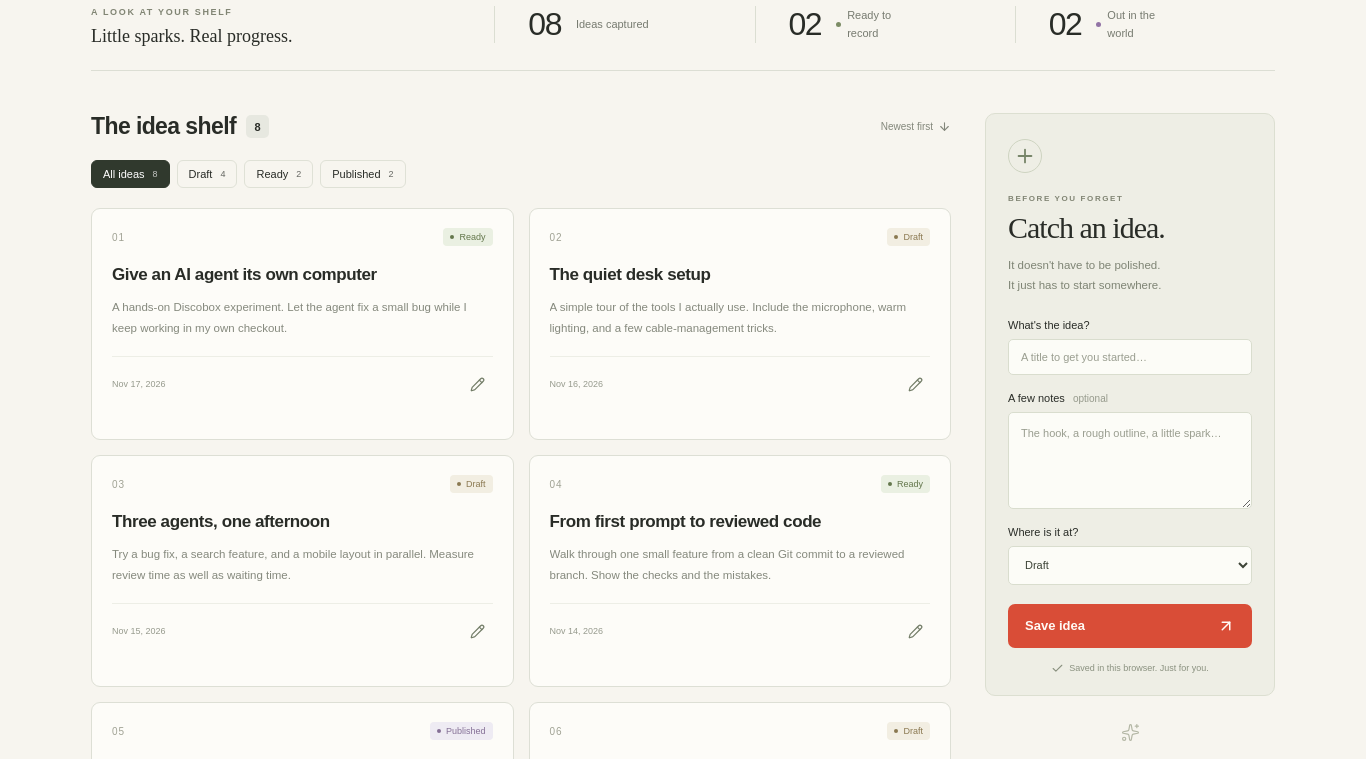
ClipShelf core workflows › edits an idea and its status
(page scrolled)
Click the button named "Edit The quiet desk setup".
click(915, 384)  # box [900,369,930,399]
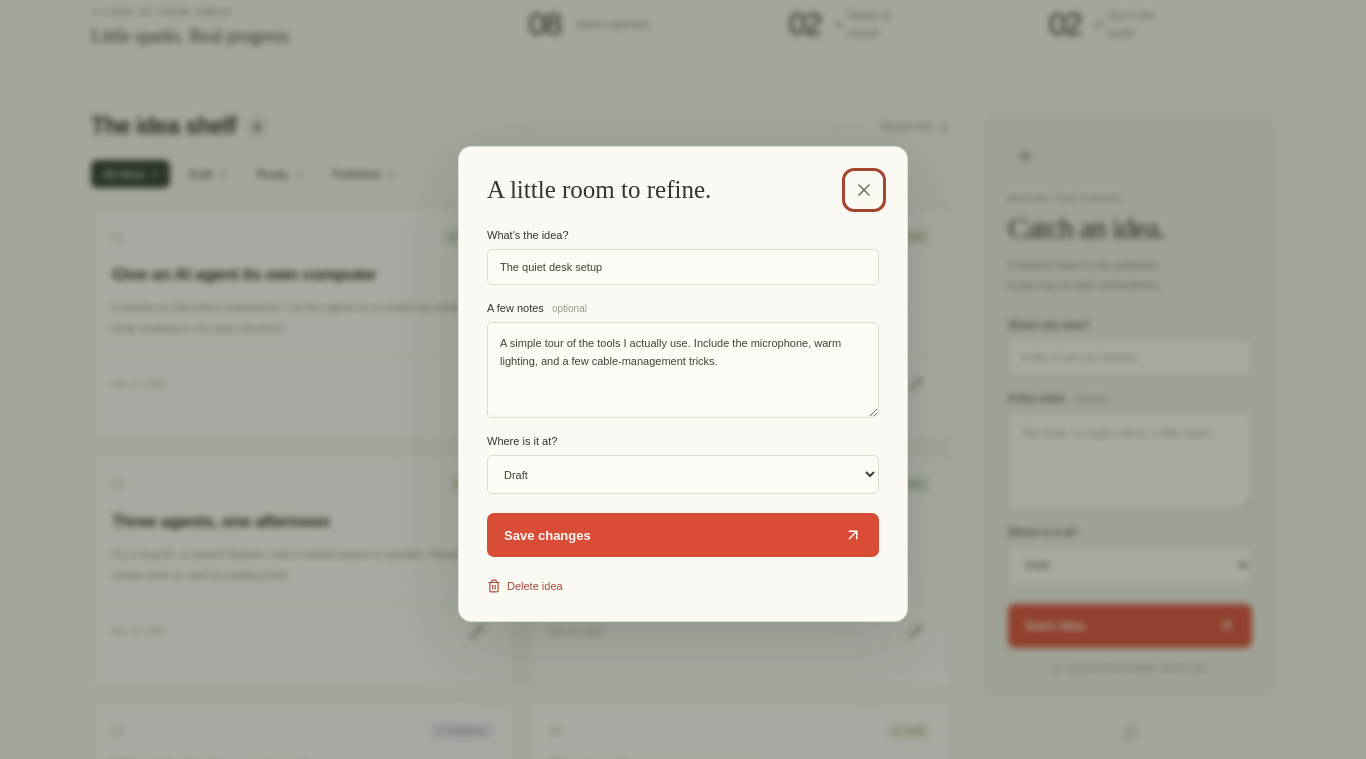
Replace the text in the field labelled "What's the idea?" with "My desk, simplified" at (683, 267), box [487,249,879,285]
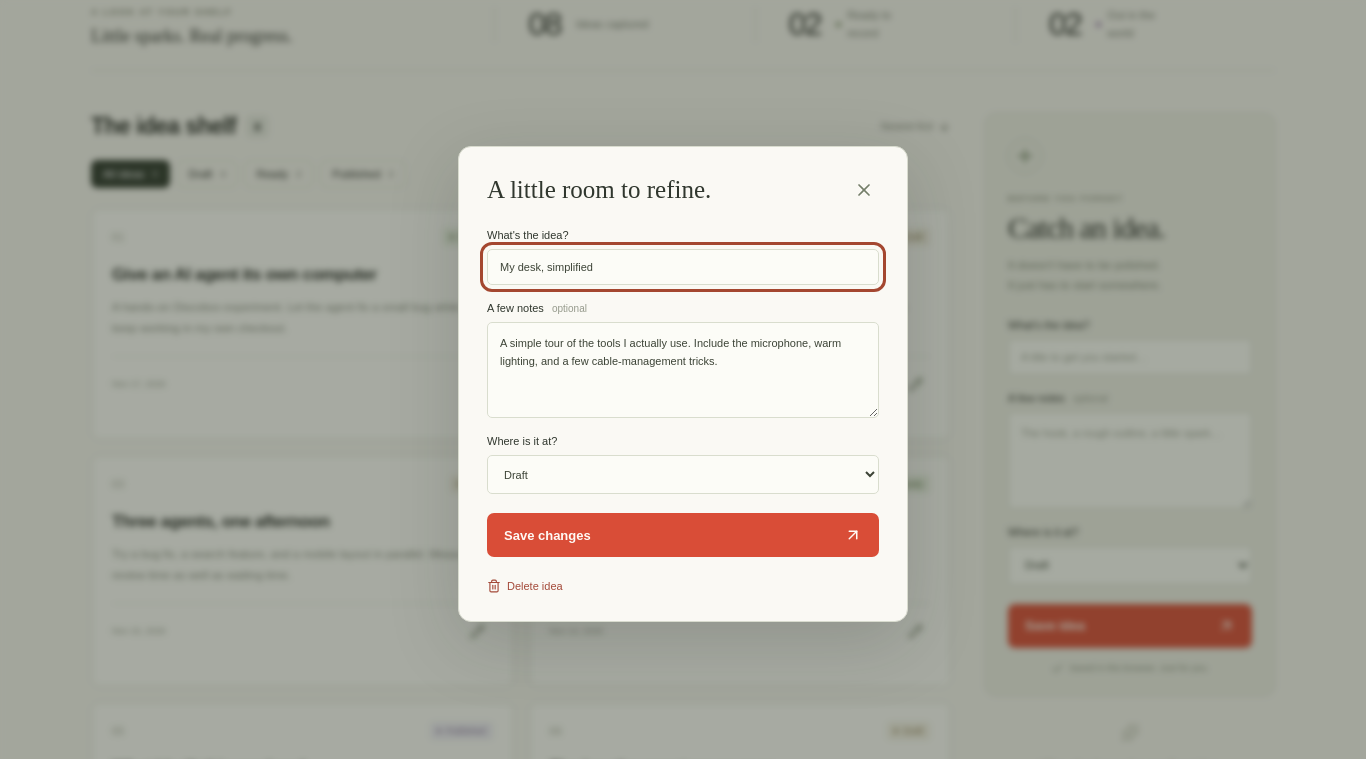
Select "Ready" in the dropdown labelled "Where is it at?" at (683, 475), box [487,455,879,494]
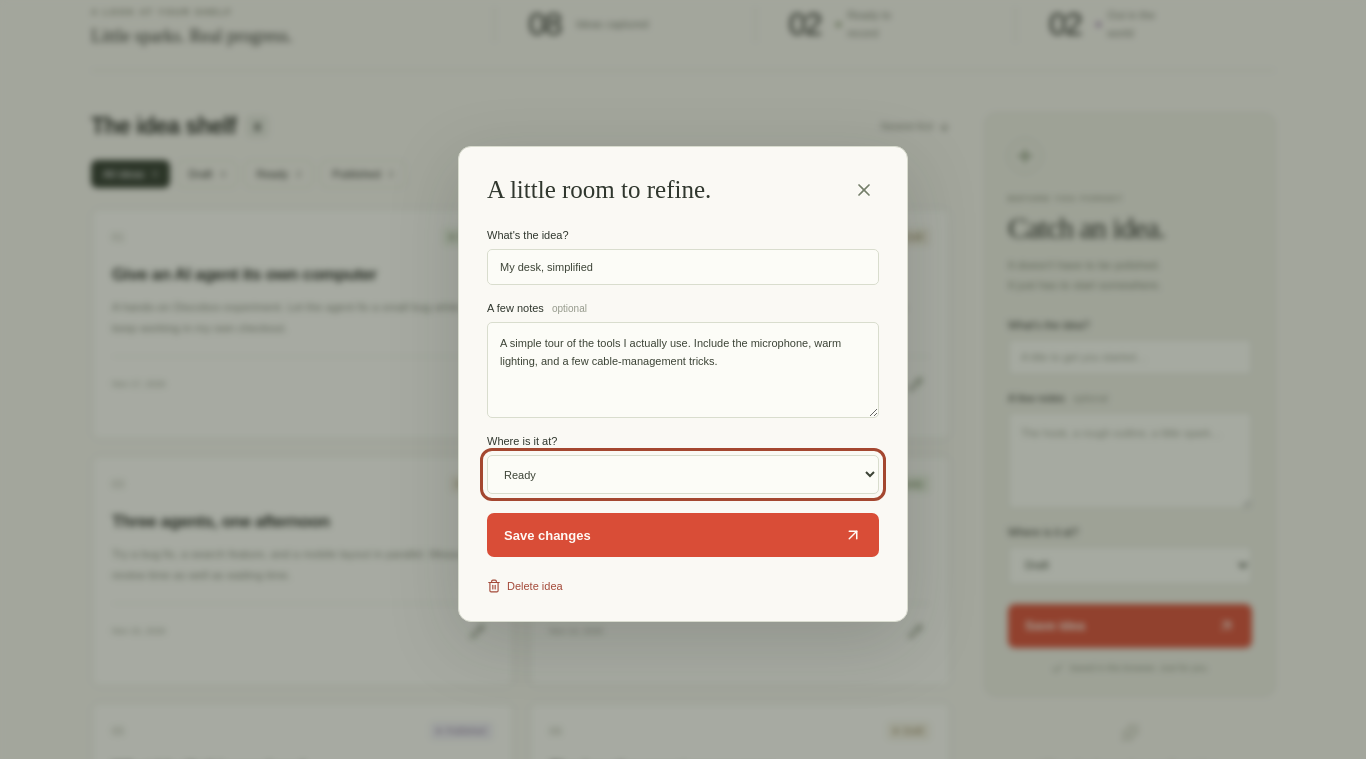
Click the button "Save changes".
click(547, 535)  # box [487,513,879,557]
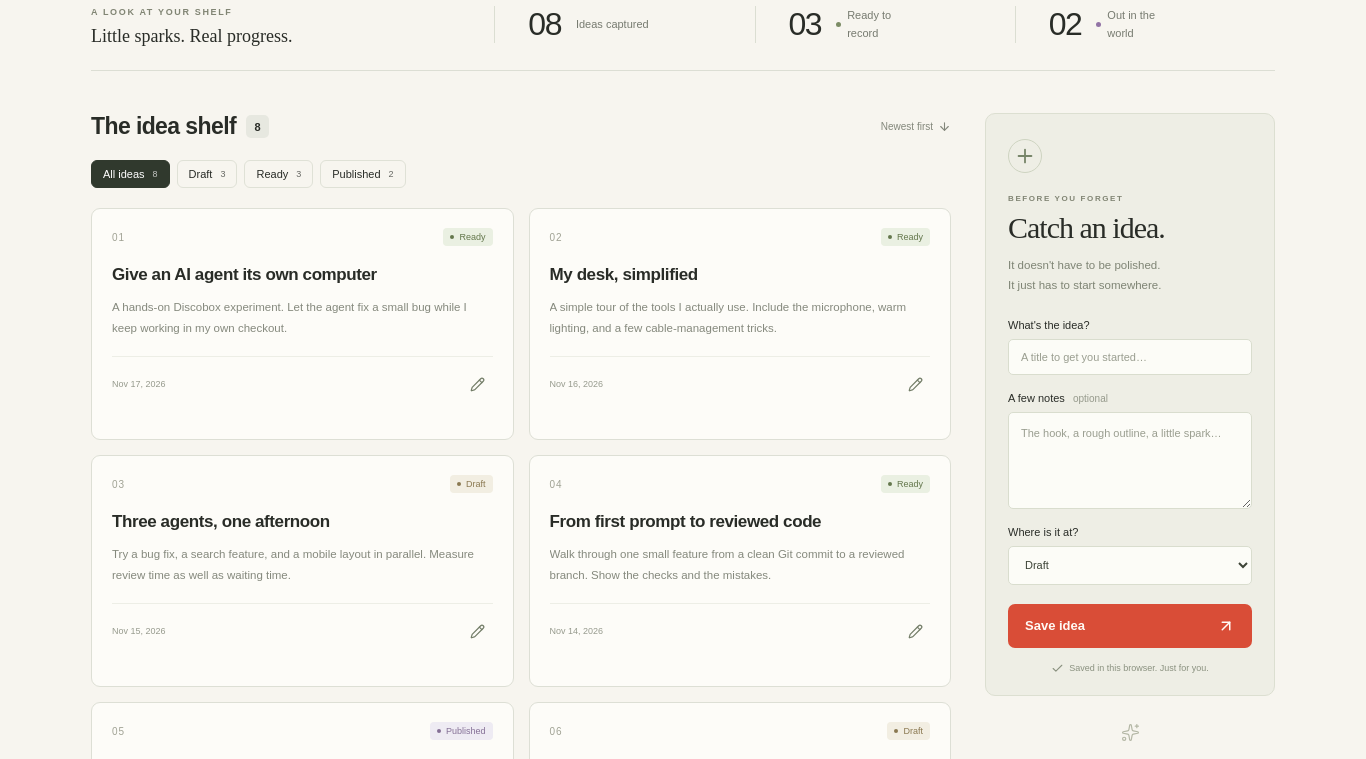
Check: the dialog is gone
Check: the heading "My desk, simplified" is shown, box [550,265,698,284]
Check: the button "Ready 3" is shown, box [244,160,313,188]
